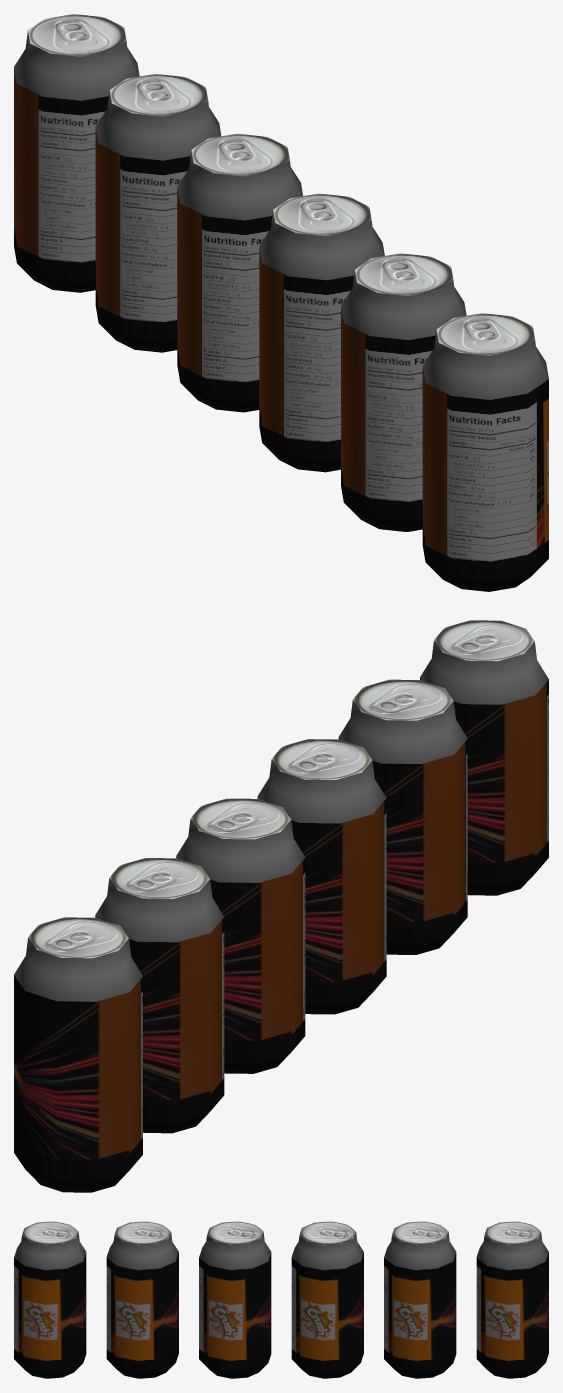
Rendered from ColdDrinkCanB.fbx.
3 renders of one model, top to bottom at view 1: azimuth 30°, elevation 25°; view 2: azimuth 150°, elevation 25°; view 3: azimuth 270°, elevation 25°, orthographic. The views are drawn at different scales.
Visible parts, largest first — view 1: ColdDrinkCanB; view 2: ColdDrinkCanB; view 3: ColdDrinkCanB.
Part boxes in pixels (box(x1,y1,x2,y2)): ColdDrinkCanB: box(14, 14, 548, 591); ColdDrinkCanB: box(14, 620, 548, 1192); ColdDrinkCanB: box(14, 1221, 548, 1378).
Bounding box in the file's own units: 7.01 × 14.28 × 51.42.
